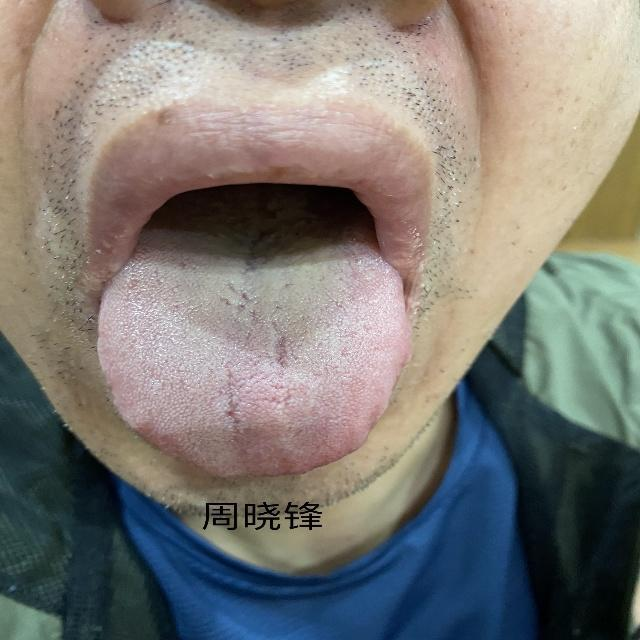baitaishe: (96, 250, 411, 479)
pangdashe: (96, 249, 411, 478)
